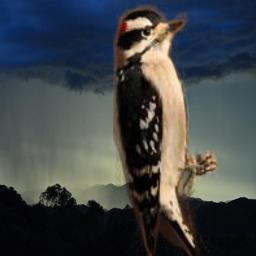Woodpecker: (113, 1, 219, 256)
